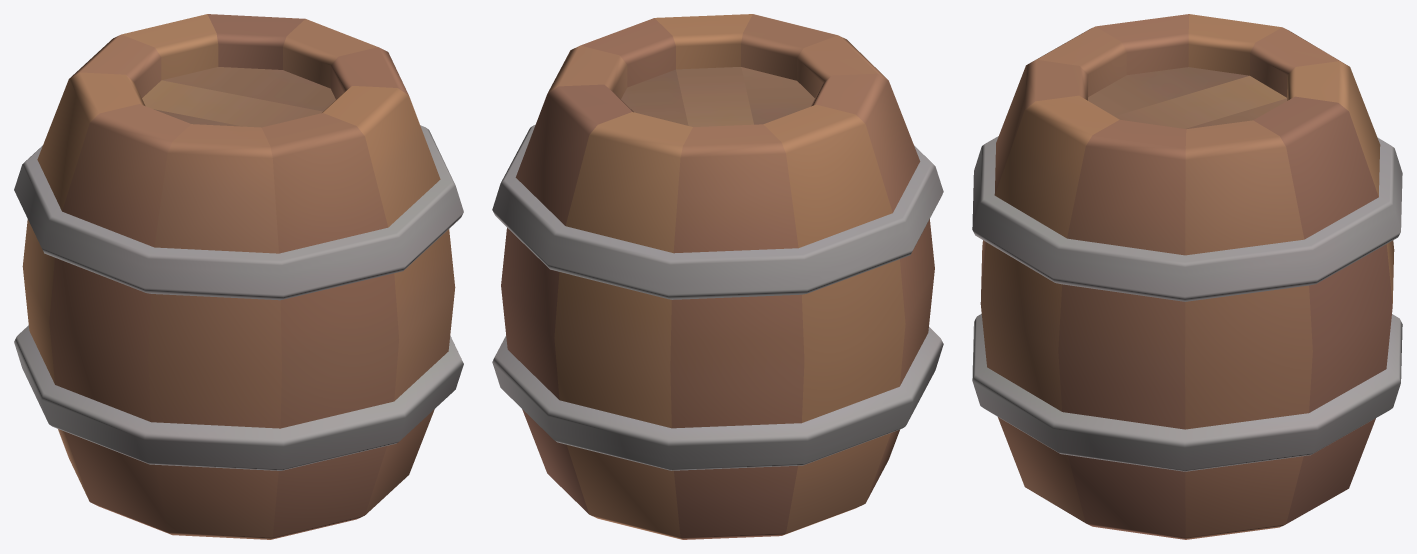
Rendered from Barrell.glb.
3 views of the same model, side by side, from view 1: azimuth 30°, elevation 25°; view 2: azimuth 150°, elevation 25°; view 3: azimuth 270°, elevation 25° (orthographic).
Visible parts, largest first — view 1: Prop_Barrell; view 2: Prop_Barrell; view 3: Prop_Barrell.
Boxes of the visible parts, x1,y1,x2,y2 form: Prop_Barrell: [14, 14, 463, 539]; Prop_Barrell: [492, 14, 943, 539]; Prop_Barrell: [972, 14, 1402, 539].
Size of the model in its own units: 1.21 by 1.16 by 1.16.
2 materials, 2 textured.
